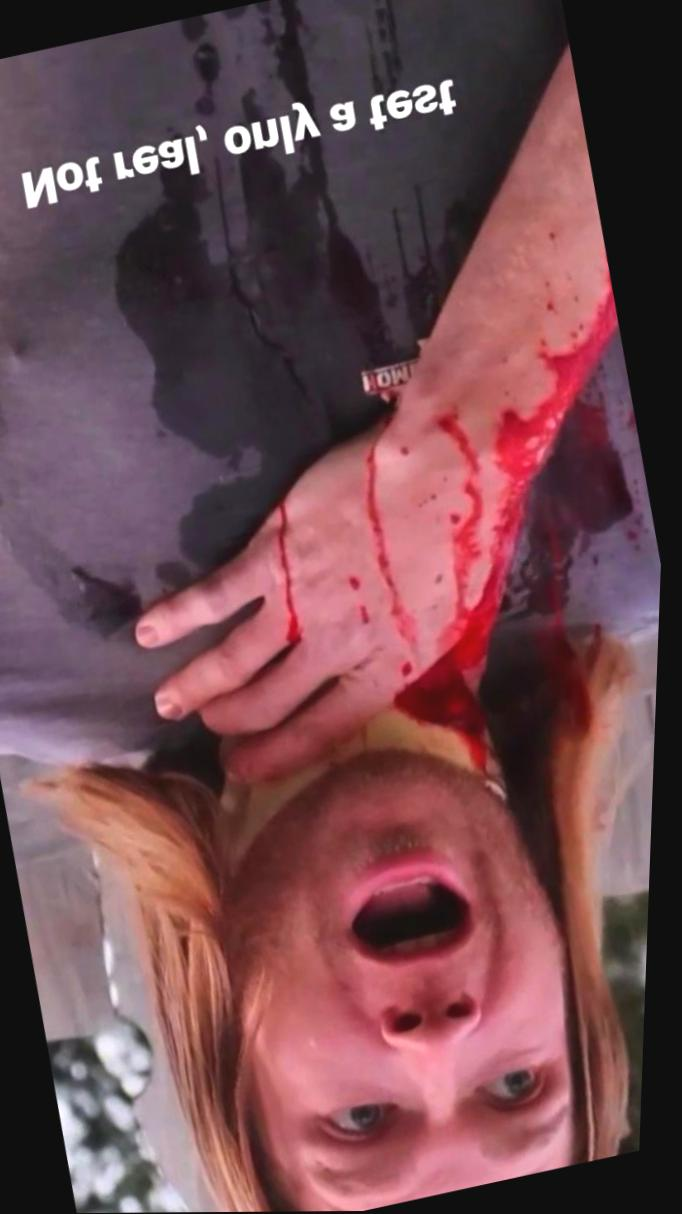Fire: (401, 277, 638, 749), (357, 419, 416, 638), (270, 493, 306, 646), (353, 576, 372, 592)
